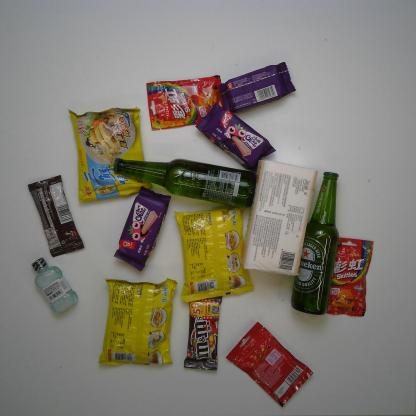Alcohol: (113, 156, 257, 208), (290, 170, 339, 316)
Candy: (225, 320, 314, 408), (146, 74, 222, 132), (325, 236, 374, 317)
Chocolate: (27, 174, 85, 258), (183, 296, 222, 371)
Dessert: (195, 102, 276, 172), (113, 185, 172, 272), (219, 61, 296, 114)
Instant Noodles: (68, 106, 152, 203), (174, 207, 254, 302), (97, 277, 178, 366)
Personal Hygiene: (31, 258, 78, 314)
Tissue: (242, 157, 319, 277)
